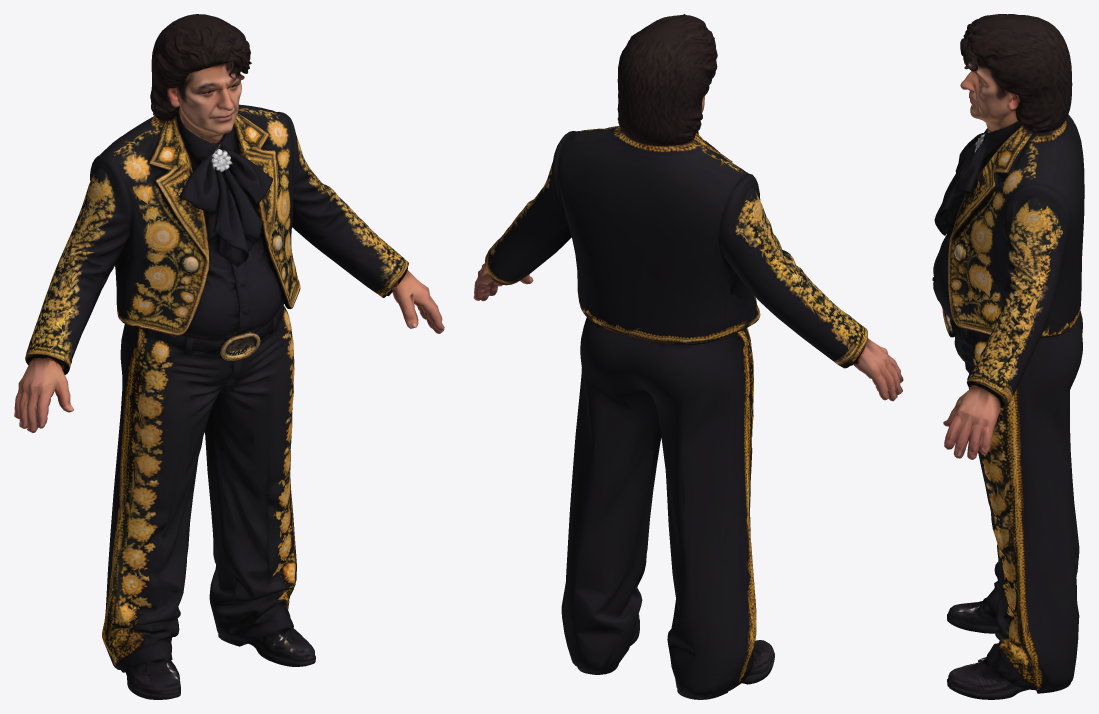
Rendered from juangrabriel.glb.
3 renders of one model, left to right at view 1: azimuth 30°, elevation 25°; view 2: azimuth 150°, elevation 25°; view 3: azimuth 270°, elevation 25°, orthographic.
Visible parts, largest first — view 1: node_0.002; view 2: node_0.002; view 3: node_0.002.
Boxes of the visible parts, x1,y1,x2,y2 form: node_0.002: (14, 14, 444, 699); node_0.002: (473, 14, 903, 699); node_0.002: (932, 14, 1084, 699).
Bounding box in the file's own units: 1.17 × 1.72 × 0.3716.
Materials: 1 (1 with a texture image).
